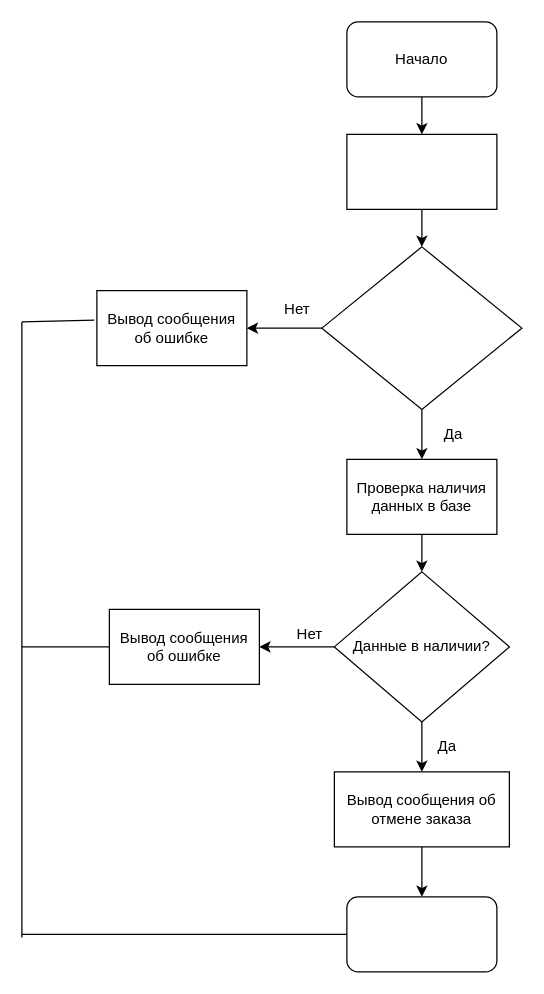
This 544x994 diagram has some shape labels left out. The centre of each missing label's shape, as x and y in pixels:
Данные корректны?: the point at 421,327
Конец: the point at 421,934
Пользователь нажимает кнопку "Отменить бронирование": the point at 421,171
